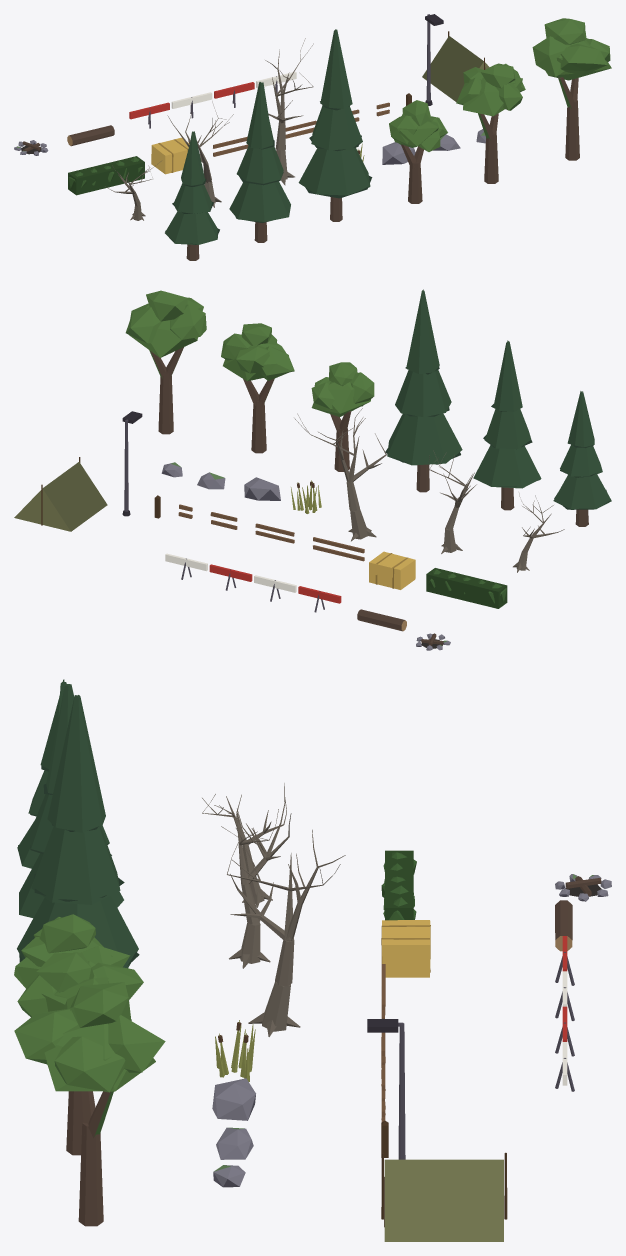
The model's file is map_kit.glb.
3 views of the same model, one above another, from view 1: azimuth 30°, elevation 25°; view 2: azimuth 150°, elevation 25°; view 3: azimuth 270°, elevation 25° (orthographic). The views are drawn at different scales.
Parts seen in each view (by area): view 1: Pine_C, Pine_B, Oak_C, Oak_B, Pine_A, Oak_A, Tent, Hedge, Roadblock, DeadTree_C, HayBale, DeadTree_B (+5 smaller); view 2: Pine_C, Pine_B, Oak_C, Oak_B, Pine_A, Tent, Oak_A, Hedge, Roadblock, DeadTree_C, HayBale, DeadTree_B (+6 smaller); view 3: Oak_C, Pine_C, Tent, Oak_B, DeadTree_C, Oak_A, Pine_B, HayBale, DeadTree_B, Hedge, Roadblock, Rock_A (+7 smaller).
Boxes of the visible parts, x1,y1,x2,y2 form: Pine_C: [298, 29, 372, 221]; Pine_B: [229, 82, 290, 242]; Oak_C: [532, 18, 611, 160]; Oak_B: [456, 63, 525, 183]; Pine_A: [165, 131, 219, 260]; Oak_A: [389, 100, 447, 203]; Tent: [422, 31, 489, 101]; Hedge: [68, 156, 144, 195]; Roadblock: [129, 71, 296, 128]; DeadTree_C: [265, 38, 313, 185]; HayBale: [151, 137, 189, 174]; DeadTree_B: [167, 101, 233, 207]; Pine_C: [385, 289, 462, 492]; Pine_B: [473, 340, 541, 510]; Oak_C: [125, 290, 206, 434]; Oak_B: [221, 323, 294, 453]; Pine_A: [553, 391, 611, 526]; Tent: [14, 457, 107, 531]; Oak_A: [311, 362, 374, 471]; Hedge: [426, 568, 507, 608]; Roadblock: [165, 553, 341, 612]; DeadTree_C: [294, 408, 386, 541]; HayBale: [369, 551, 415, 589]; DeadTree_B: [428, 450, 476, 553]; Oak_C: [14, 982, 165, 1226]; Pine_C: [17, 695, 139, 968]; Tent: [381, 1152, 507, 1241]; Oak_B: [17, 952, 143, 1155]; DeadTree_C: [227, 829, 345, 1036]; Oak_A: [14, 914, 130, 988]; Pine_B: [19, 684, 123, 917]; HayBale: [381, 920, 430, 977]; DeadTree_B: [221, 783, 291, 968]; Hedge: [381, 850, 416, 920]; Roadblock: [555, 936, 574, 1091]; Rock_A: [212, 1078, 255, 1120].
Bounding box in the file's own units: 75.98 × 30.59 × 50.09.
Materials: 1 (1 with a texture image).
